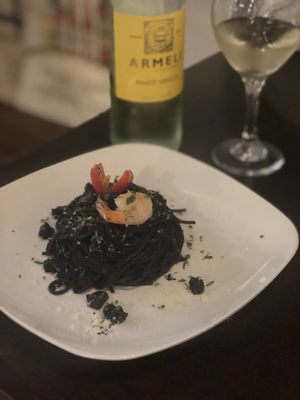curry: (1, 26, 299, 400)
sandwich: (210, 0, 300, 178)
sushi: (39, 162, 185, 295)
